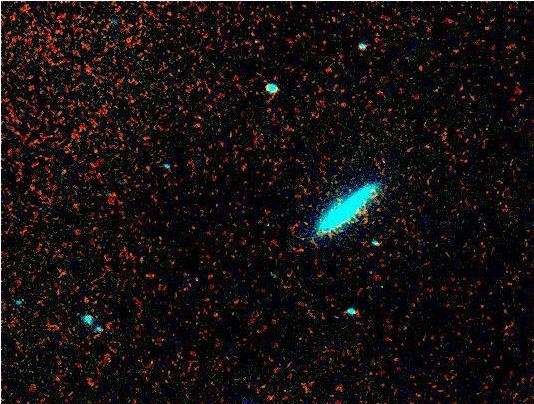star: (334, 172, 364, 202)
